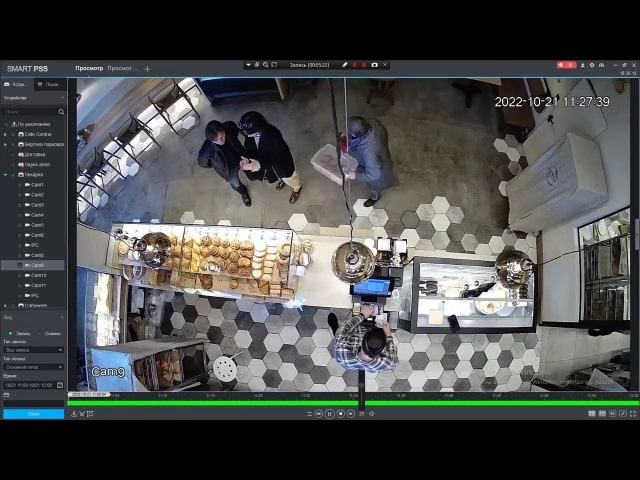barcounter: (95, 221, 545, 332)
openedcash: (348, 273, 398, 330)
pack: (312, 142, 355, 181)
person: (342, 117, 405, 207)
